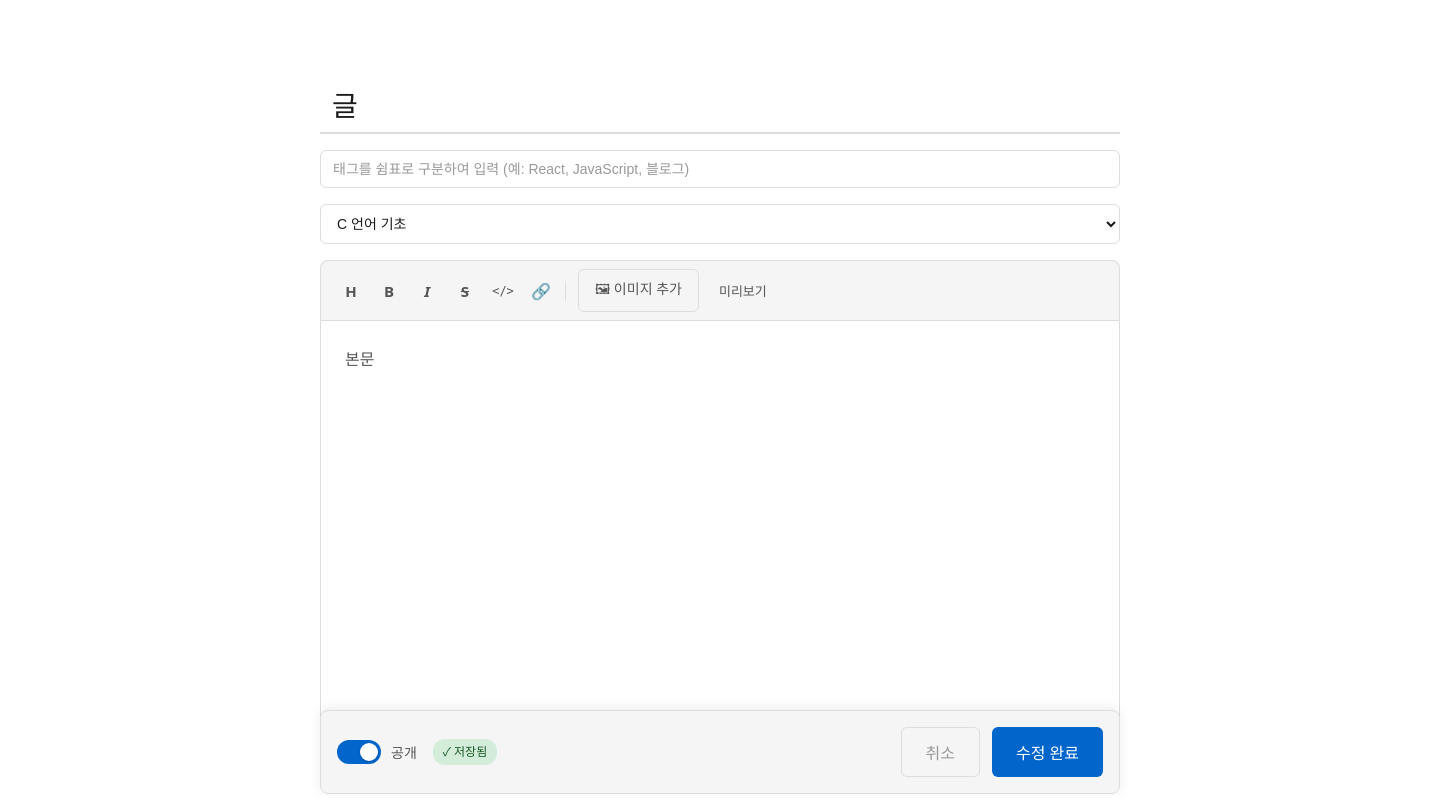
Test: EditorPage › 시리즈 반영 › 시리즈 반영에 실패하면 글은 저장됐다고 알리면서 실패를 보여 준다
This screenshot has width=1440, height=810.
Expected: the field showing "글" is shown, [320,76,1120,134]
Expected: the dropdown shows "C 언어 기초", [320,204,1120,244]
Click the button "수정 완료" at (1048,752), box [992,727,1103,777]
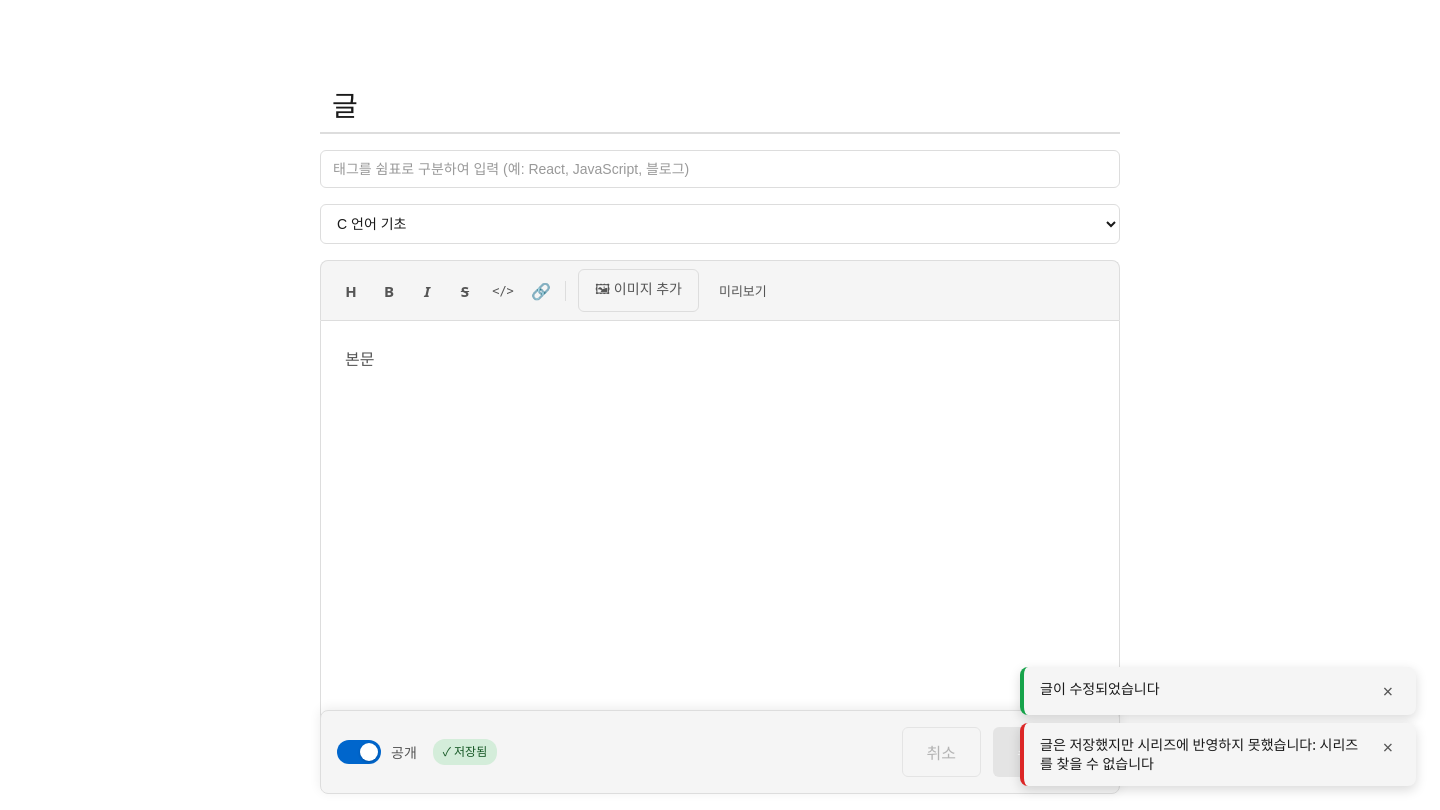
Expected: the text "글은 저장했지만 시리즈에 반영하지 못했습니다: 시리즈를 찾을 수 없습니다" is shown, [1040,735,1364,774]
